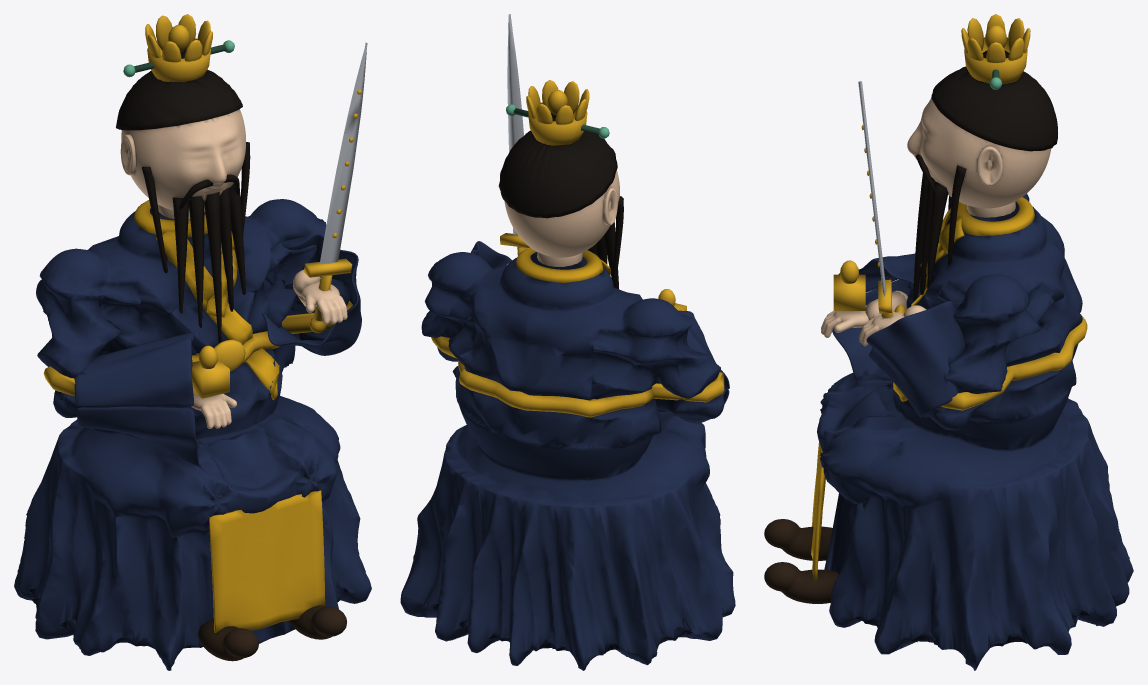
The model's file is tianshi.glb.
The picture shows the model from 3 angles, left to right: view 1: azimuth 30°, elevation 25°; view 2: azimuth 150°, elevation 25°; view 3: azimuth 270°, elevation 25°; orthographic projection. The views are drawn at different scales.
Visible parts, largest first — view 1: TS_Robe, TS_Apron, TS_SleeveL, TS_Beard, TS_HeadMesh, TS_HairCap, TS_Lapel, TS_Crown, TS_SleeveR, TS_Boots, TS_Blade, TS_Belt (+5 smaller); view 2: TS_Robe, TS_HairCap, TS_Belt, TS_HeadMesh, TS_Crown, TS_Collar, TS_Blade, TS_Beard, TS_SleeveL, TS_SleeveR; view 3: TS_Robe, TS_HairCap, TS_SleeveR, TS_HeadMesh, TS_Boots, TS_Crown, TS_Beard, TS_SleeveL, TS_Belt, TS_Collar, TS_Seal, TS_Apron (+6 smaller).
Boxes of the visible parts, x1,y1,x2,y2 form: TS_Robe: [14, 199, 371, 670]; TS_Apron: [209, 490, 325, 633]; TS_SleeveL: [74, 332, 199, 465]; TS_Beard: [142, 142, 250, 342]; TS_HeadMesh: [121, 109, 245, 211]; TS_HairCap: [116, 69, 242, 130]; TS_Lapel: [156, 230, 279, 399]; TS_Crown: [145, 14, 212, 82]; TS_SleeveR: [261, 233, 361, 355]; TS_Boots: [198, 605, 346, 661]; TS_Blade: [319, 42, 367, 263]; TS_Belt: [43, 301, 352, 396]; TS_Robe: [400, 252, 735, 670]; TS_HairCap: [498, 130, 617, 218]; TS_Belt: [431, 336, 724, 417]; TS_HeadMesh: [504, 170, 619, 257]; TS_Crown: [526, 80, 589, 145]; TS_Collar: [515, 247, 603, 283]; TS_Blade: [507, 14, 523, 235]; TS_Beard: [588, 196, 623, 289]; TS_SleeveL: [655, 310, 729, 423]; TS_SleeveR: [470, 241, 511, 268]; TS_Robe: [817, 193, 1133, 670]; TS_HairCap: [931, 66, 1057, 151]; TS_SleeveR: [866, 299, 964, 418]; TS_HeadMesh: [907, 98, 1051, 208]; TS_Boots: [764, 519, 838, 603]; TS_Crown: [961, 14, 1030, 84]; TS_Beard: [913, 154, 966, 302]; TS_SleeveL: [832, 253, 915, 386]; TS_Belt: [894, 304, 1087, 410]; TS_Collar: [956, 197, 1034, 236]; TS_Seal: [833, 260, 865, 310]; TS_Apron: [811, 442, 825, 580].
Size of the model in its own units: 1.18 by 2 by 1.16.
